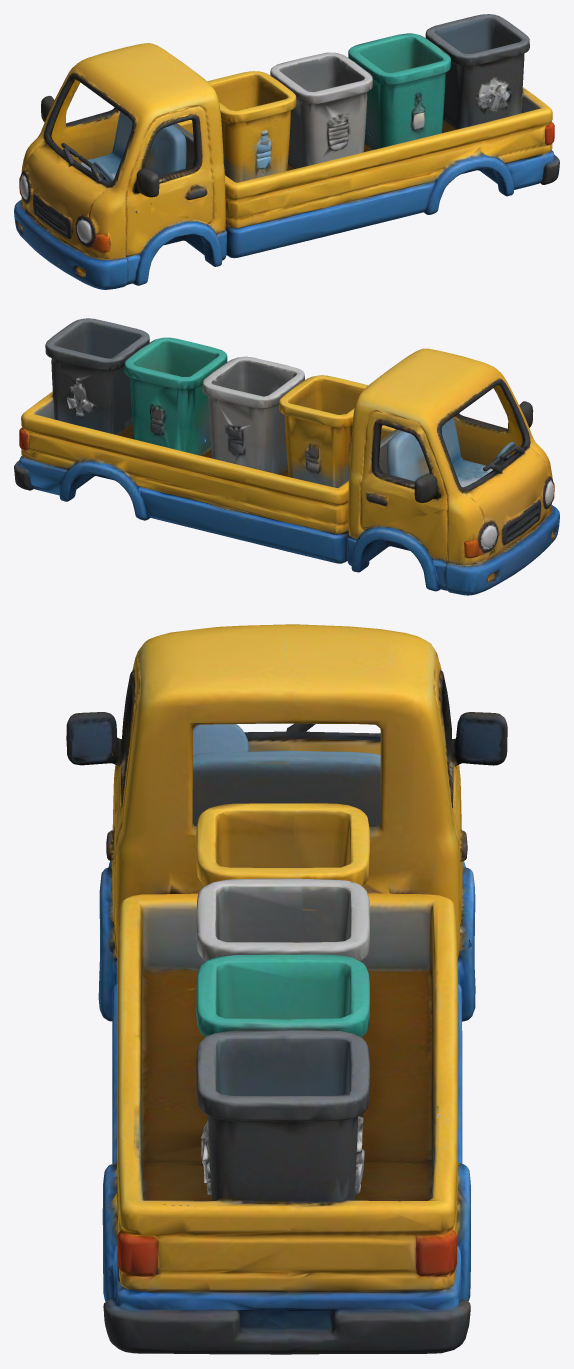
Rendered from truck.glb.
3 renders of one model, top to bottom at view 1: azimuth 30°, elevation 25°; view 2: azimuth 150°, elevation 25°; view 3: azimuth 270°, elevation 25°, orthographic. The views are drawn at different scales.
Visible parts, largest first — view 1: tripo_node_fe6ec02a-a780-4544-96b3-c72c6fbaa8a3; view 2: tripo_node_fe6ec02a-a780-4544-96b3-c72c6fbaa8a3; view 3: tripo_node_fe6ec02a-a780-4544-96b3-c72c6fbaa8a3.
Part boxes in pixels (x1,y1,x2,y2): tripo_node_fe6ec02a-a780-4544-96b3-c72c6fbaa8a3: (14, 14, 559, 289); tripo_node_fe6ec02a-a780-4544-96b3-c72c6fbaa8a3: (14, 318, 559, 595); tripo_node_fe6ec02a-a780-4544-96b3-c72c6fbaa8a3: (66, 624, 507, 1354).
Size of the model in its own units: 0.9807 by 0.3402 by 0.3925.
1 material, 1 textured.
